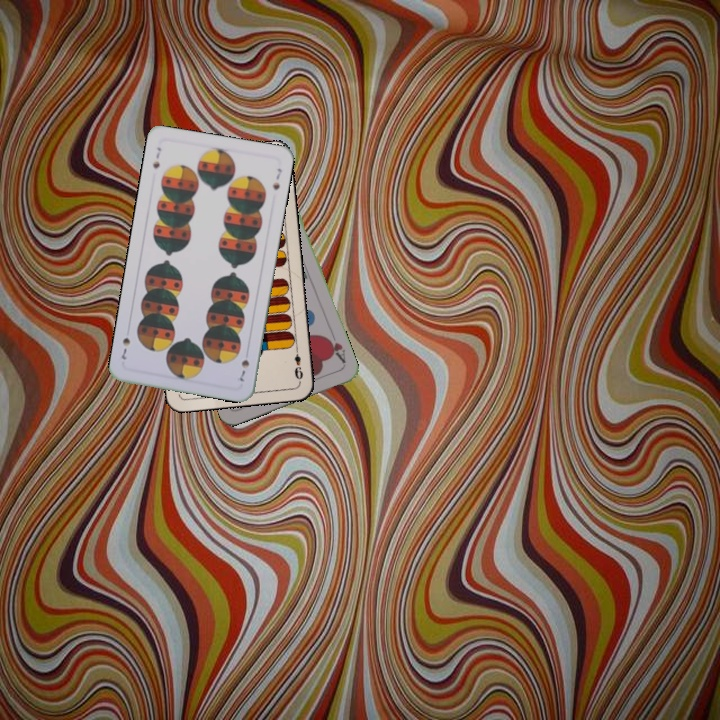E9: (290, 343, 305, 382)
HA: (322, 329, 348, 368)
S7: (235, 355, 252, 384), (149, 143, 164, 171)
